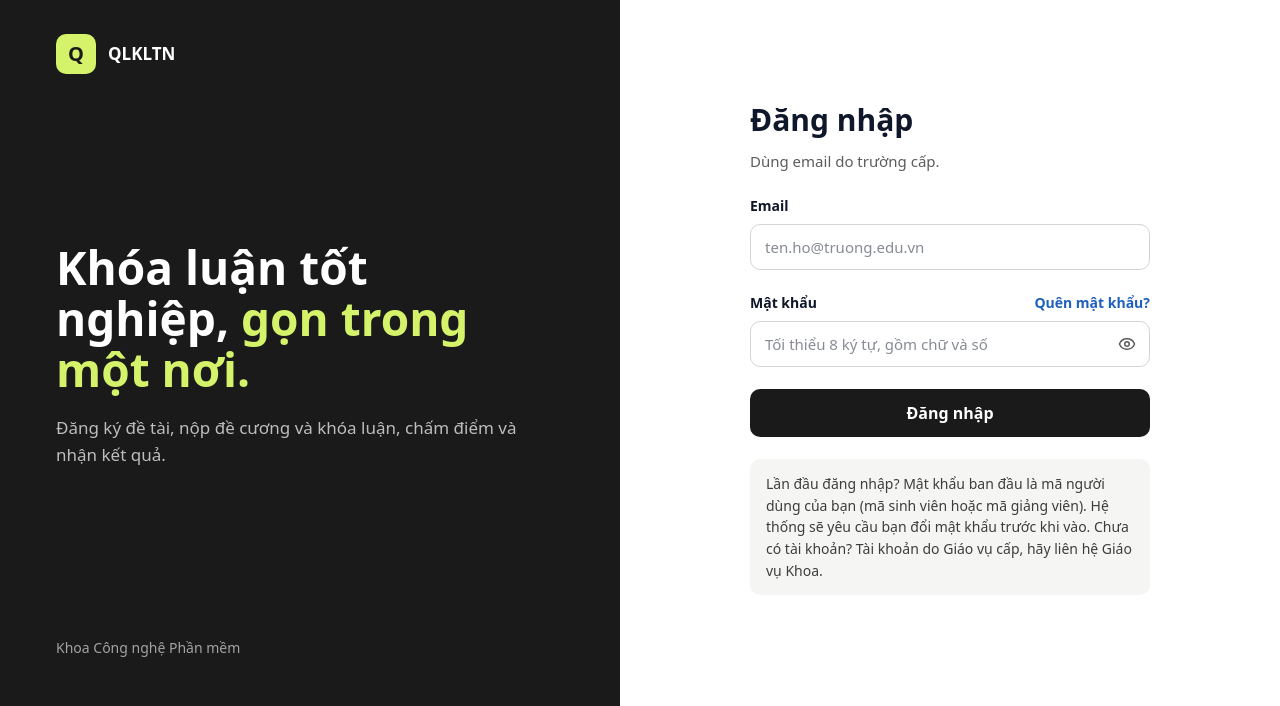
Scenario: shows the error when the activation code is wrong or expired
The image size is (1280, 706).
Type "an.nv@truong.edu.vn" into the field labelled "Email" at (950, 247), box [750,224,1150,270]
Type "22520001" into the password field labelled "Mật khẩu" at (950, 344), box [750,321,1150,367]
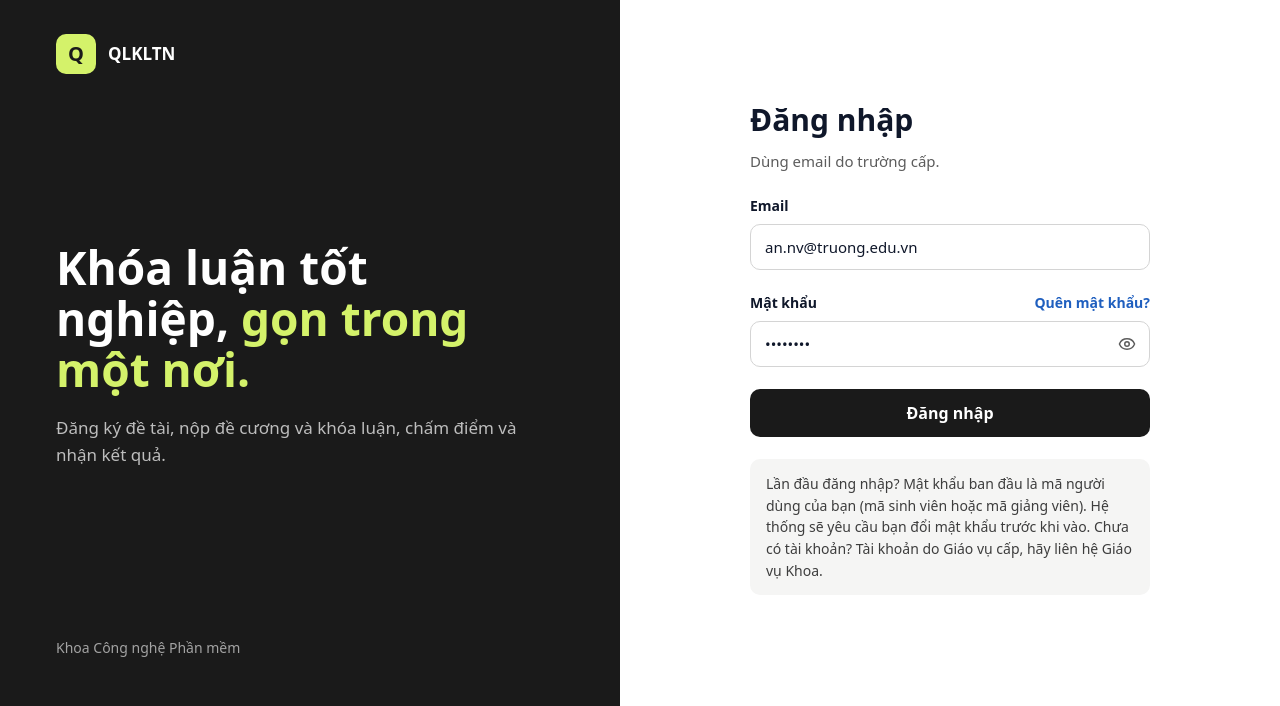
Click the button "Đăng nhập" at (950, 413), box [750,389,1150,437]
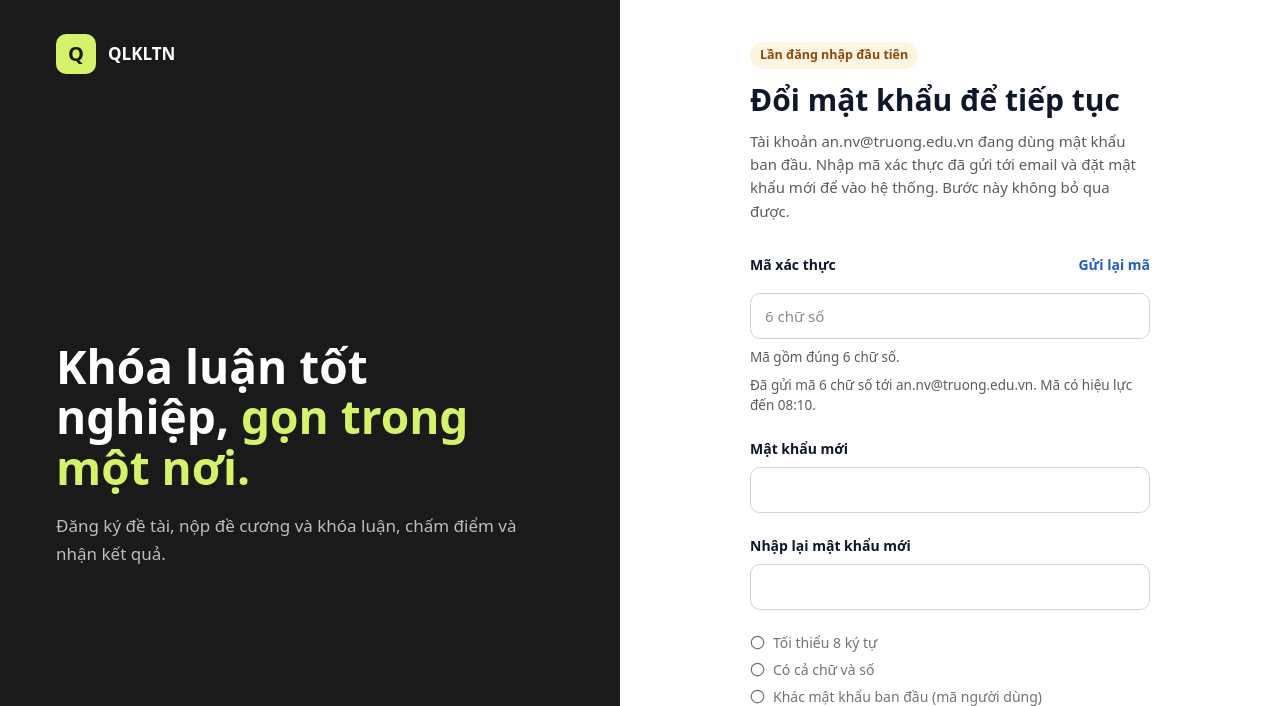
Type "matkhau123" into the password field labelled "Mật khẩu mới" at (950, 490), box [750,466,1150,512]
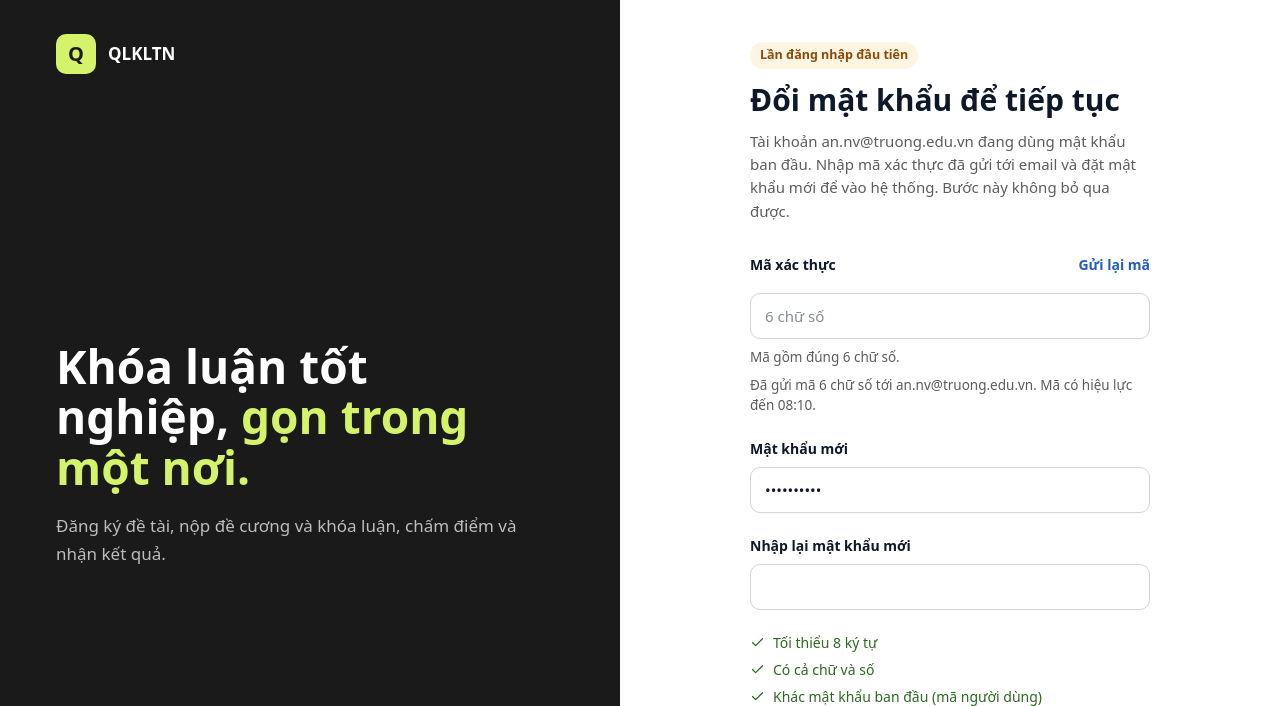
Type "matkhau123" into the password field labelled "Nhập lại mật khẩu mới" at (950, 586), box [750,564,1150,610]
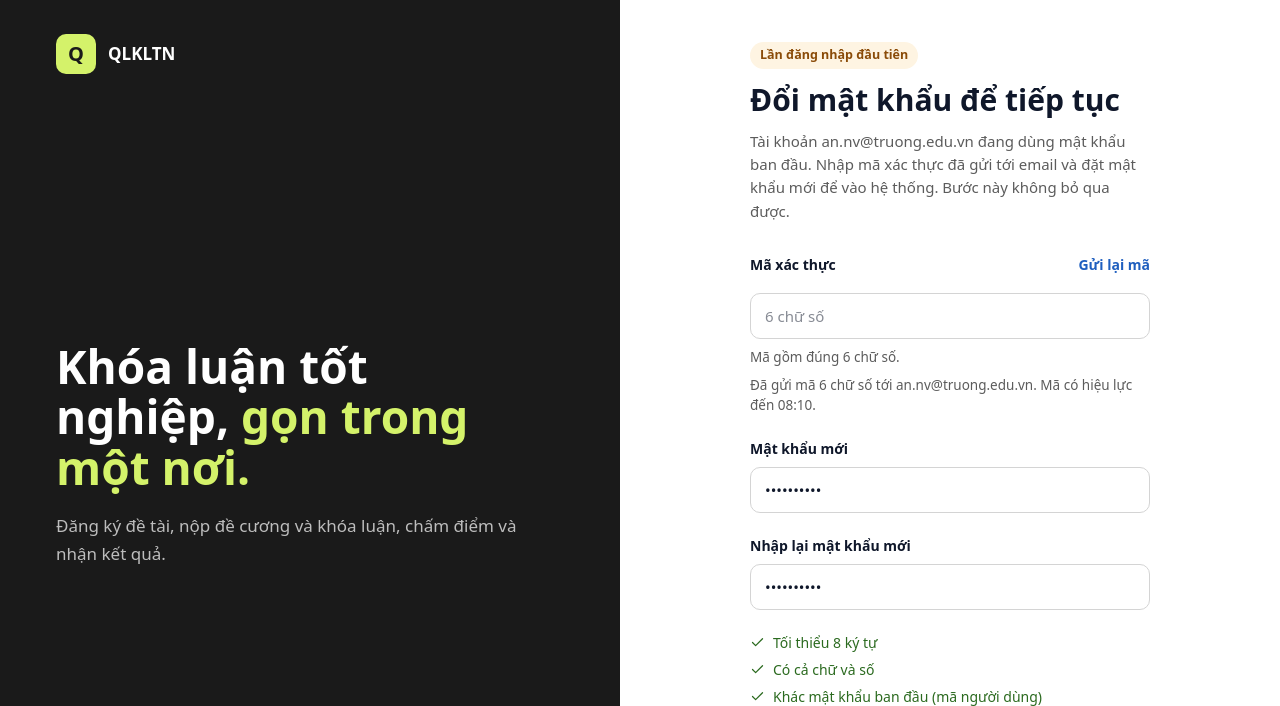
Type "000000" into the field labelled "Mã xác thực" at (950, 316), box [750,293,1150,339]
(page scrolled)
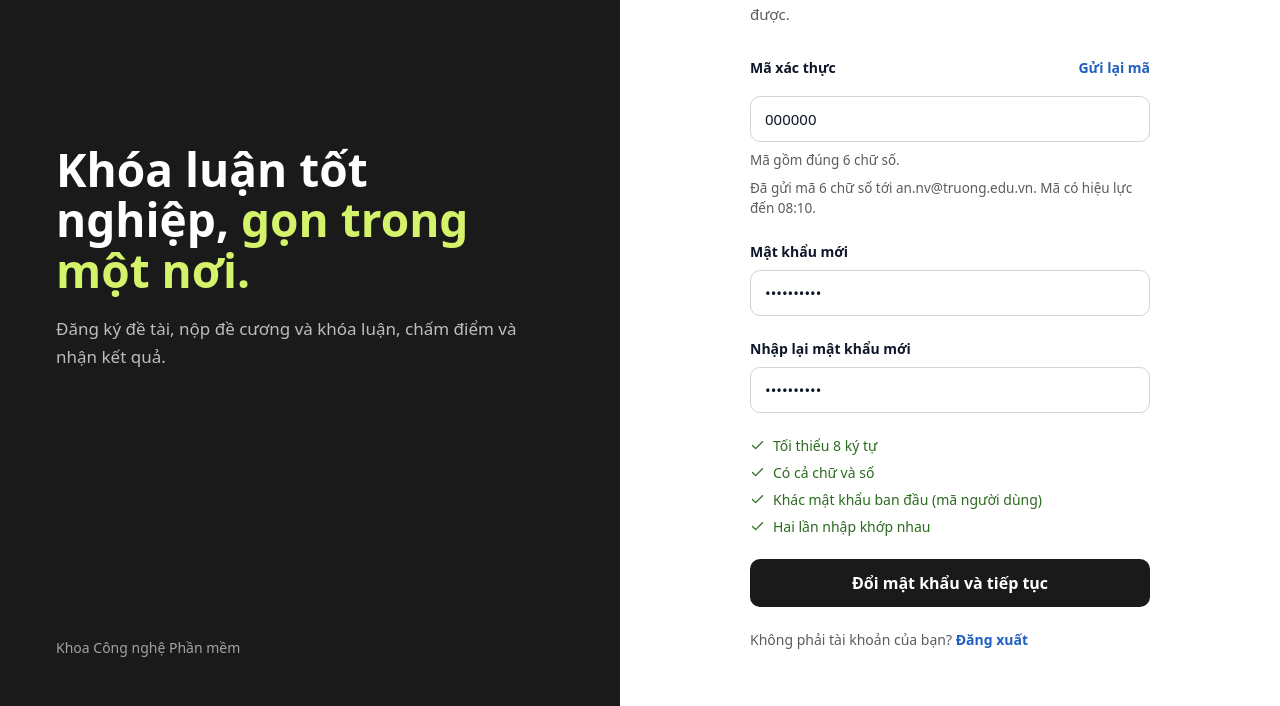
Click the button "Đổi mật khẩu và tiếp tục" at (950, 582), box [750,558,1150,606]
(page scrolled)
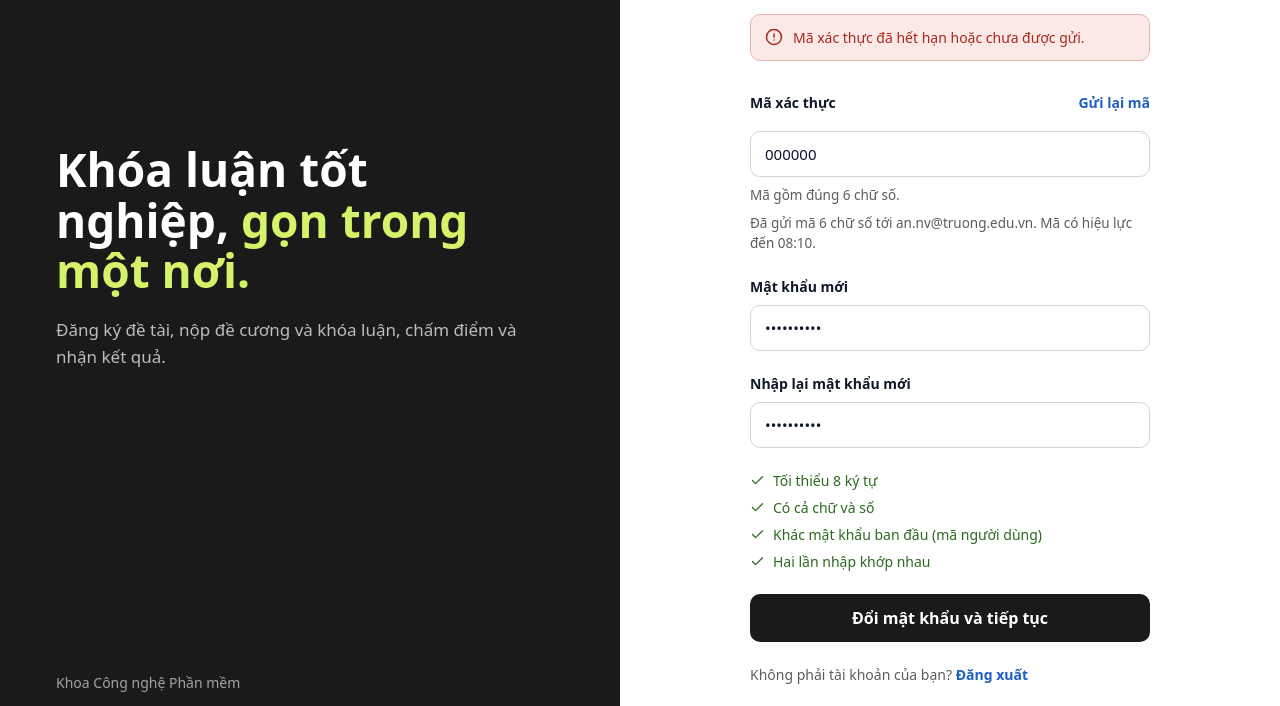
Now the message "Mã xác thực đã hết hạn hoặc chưa được gửi." is shown, box [750,14,1150,61]
